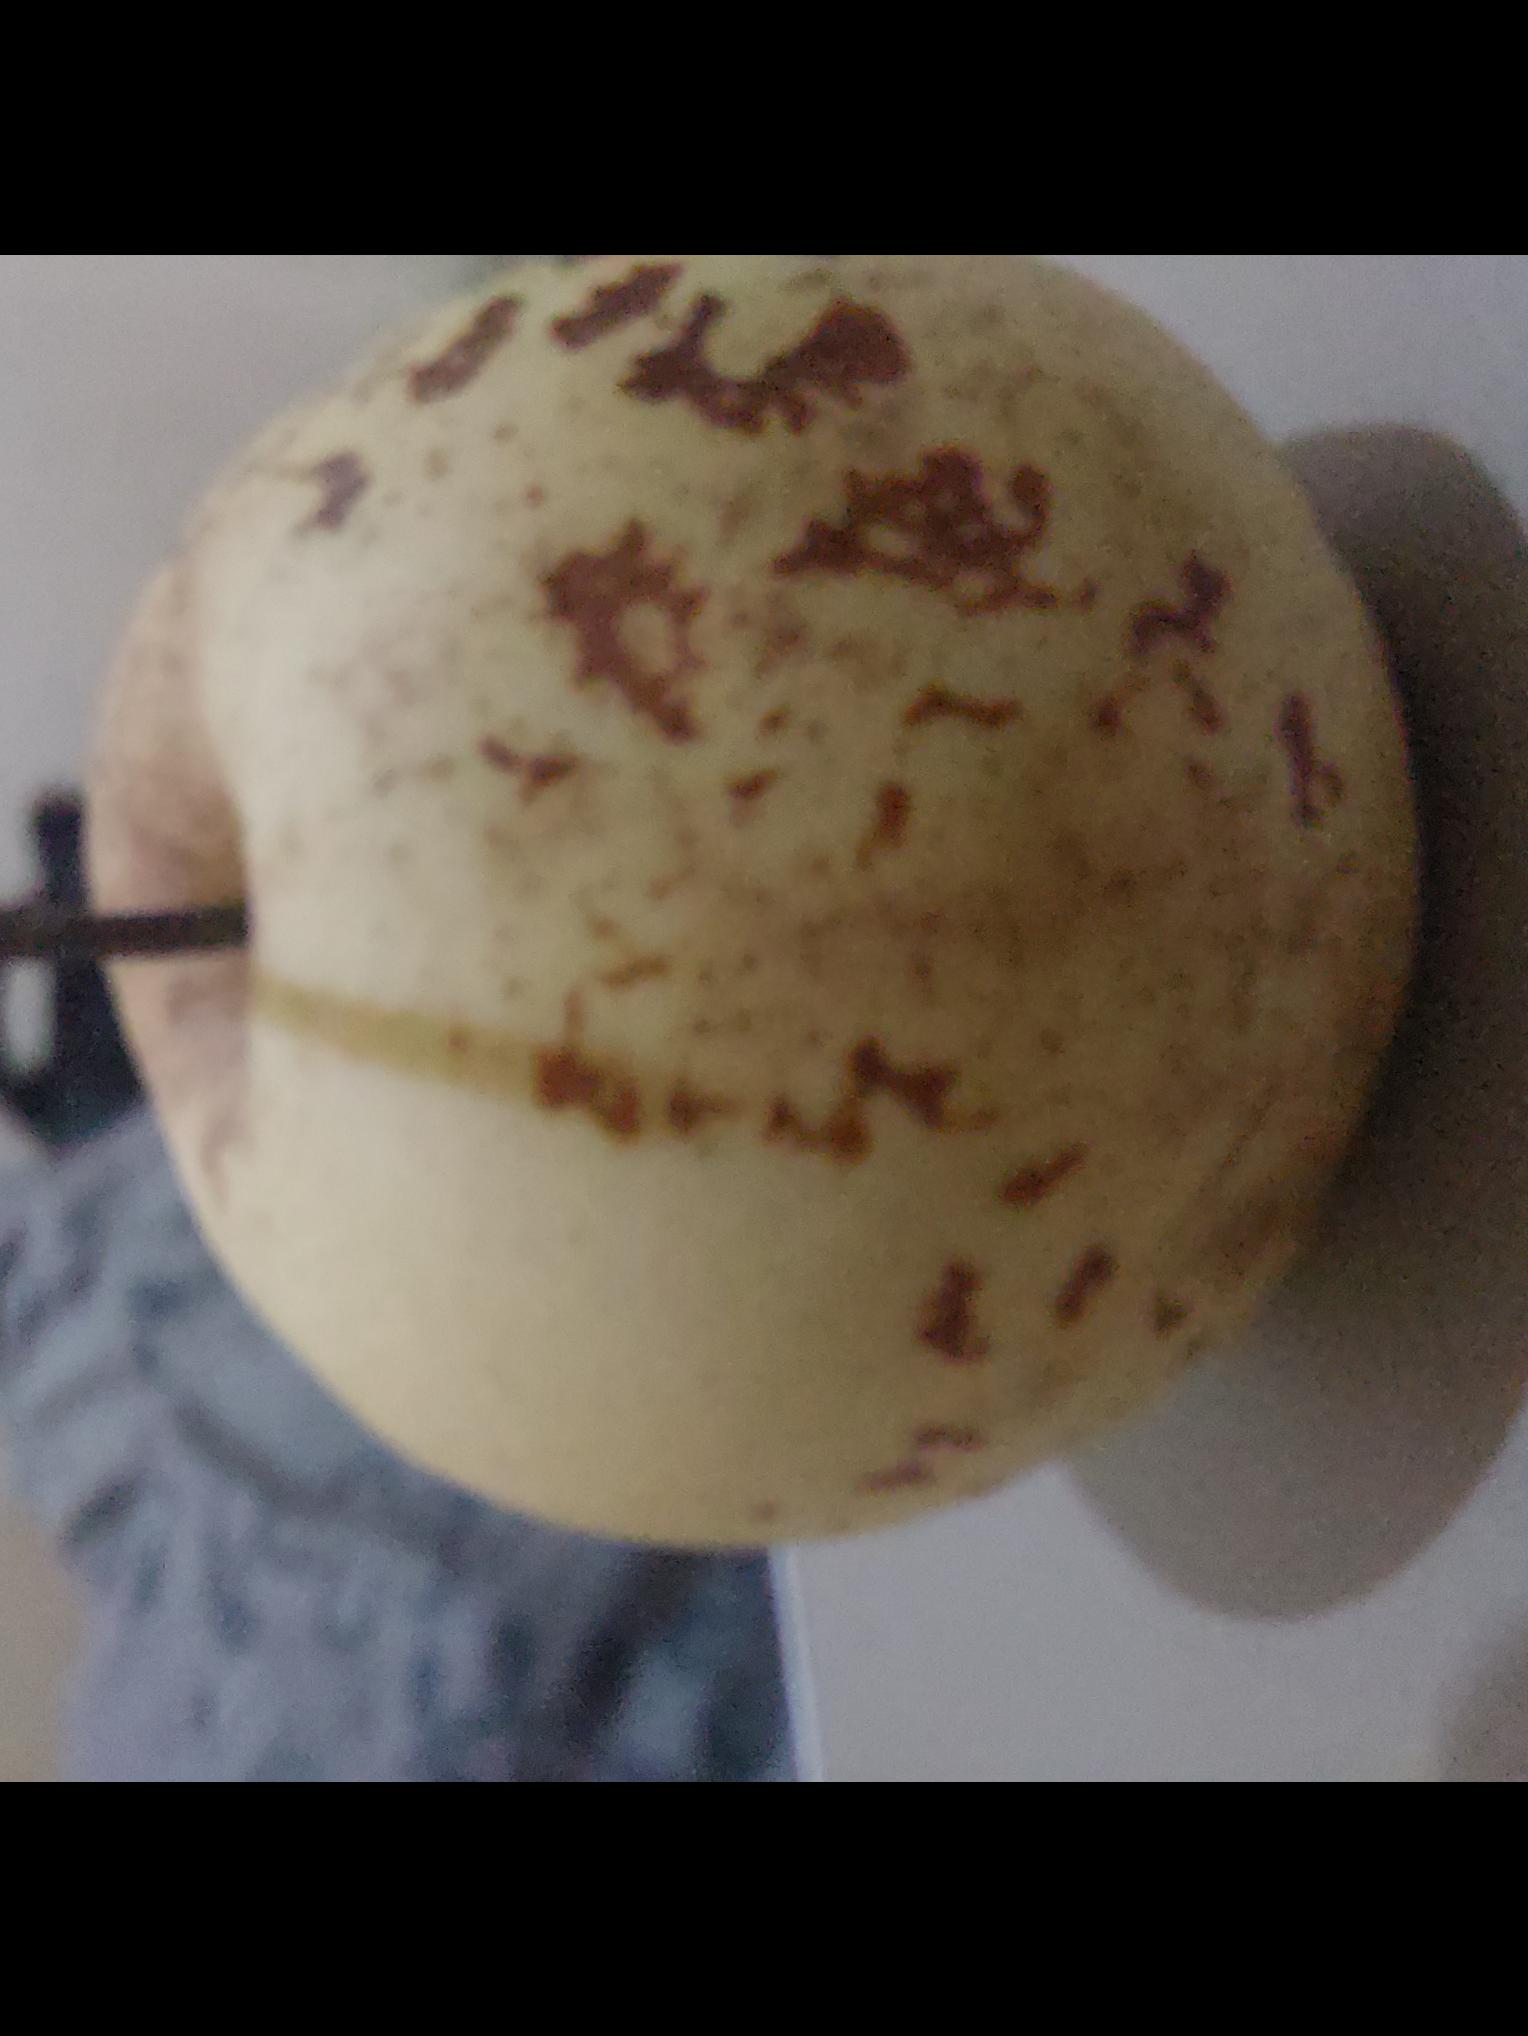Bad Pear: (130, 294, 1404, 1540)
